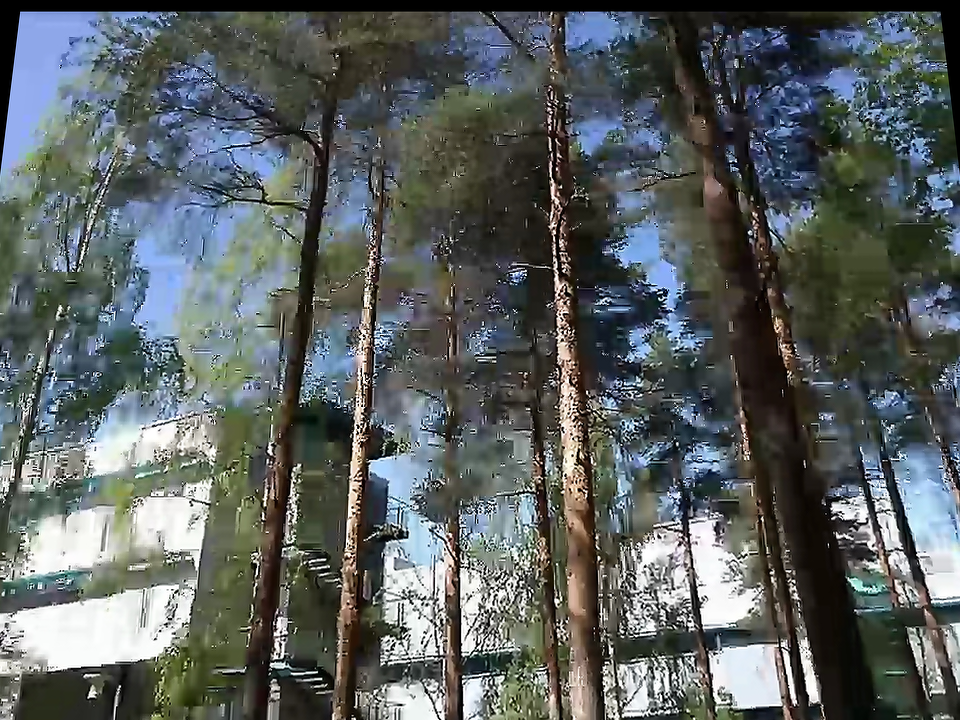branch: (624, 161, 690, 200), (487, 120, 539, 148), (185, 103, 254, 124), (489, 482, 536, 500), (290, 121, 315, 150), (263, 193, 304, 210), (231, 138, 264, 151), (229, 193, 260, 206)
trunk: (543, 256, 611, 715), (233, 338, 317, 677), (322, 306, 392, 704), (530, 50, 596, 307), (330, 302, 370, 710), (435, 267, 463, 710), (668, 505, 729, 694), (357, 135, 386, 287)
